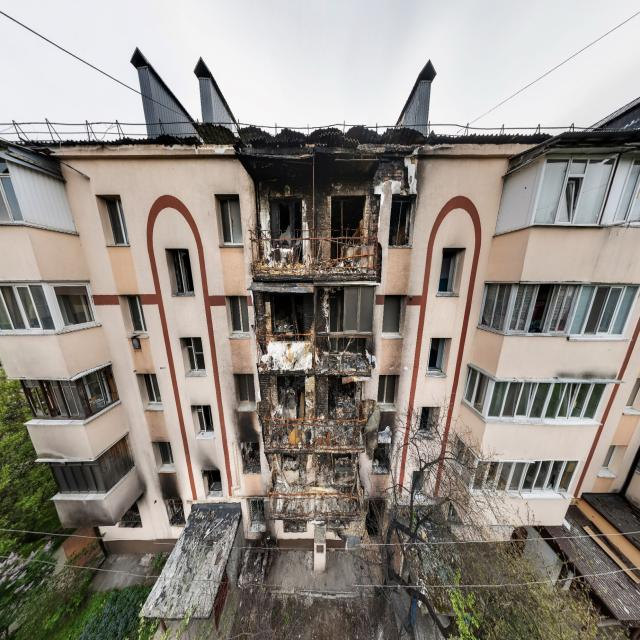broken_window: (329, 192, 366, 262), (268, 194, 303, 264), (100, 195, 130, 247), (164, 246, 194, 297), (215, 193, 243, 247), (436, 246, 465, 297), (388, 194, 413, 248), (180, 335, 206, 377), (226, 295, 250, 337), (191, 402, 215, 438), (426, 336, 447, 376), (126, 294, 146, 334)
building: (0, 47, 639, 574)
